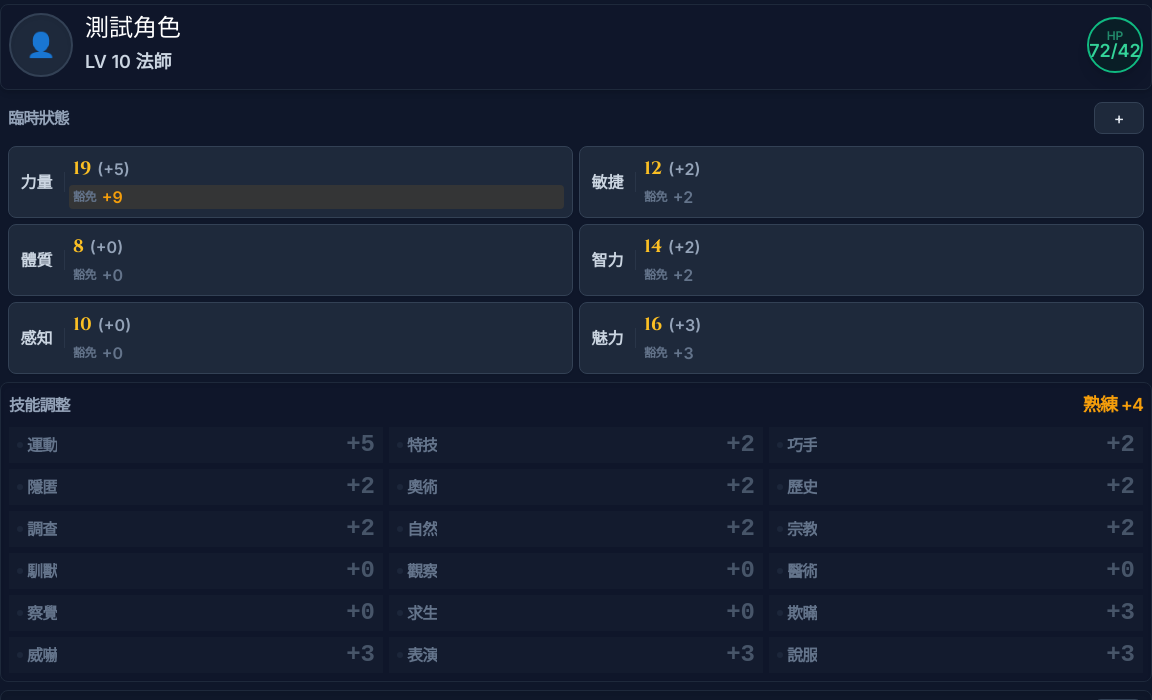
it: 屬性詳細彈窗 - 能力值與調整值不可混算 › 沒有任何加值來源的屬性不受影響
Click the text "智力". click: {"x": 608, "y": 260}
box: [592,250,624,270]
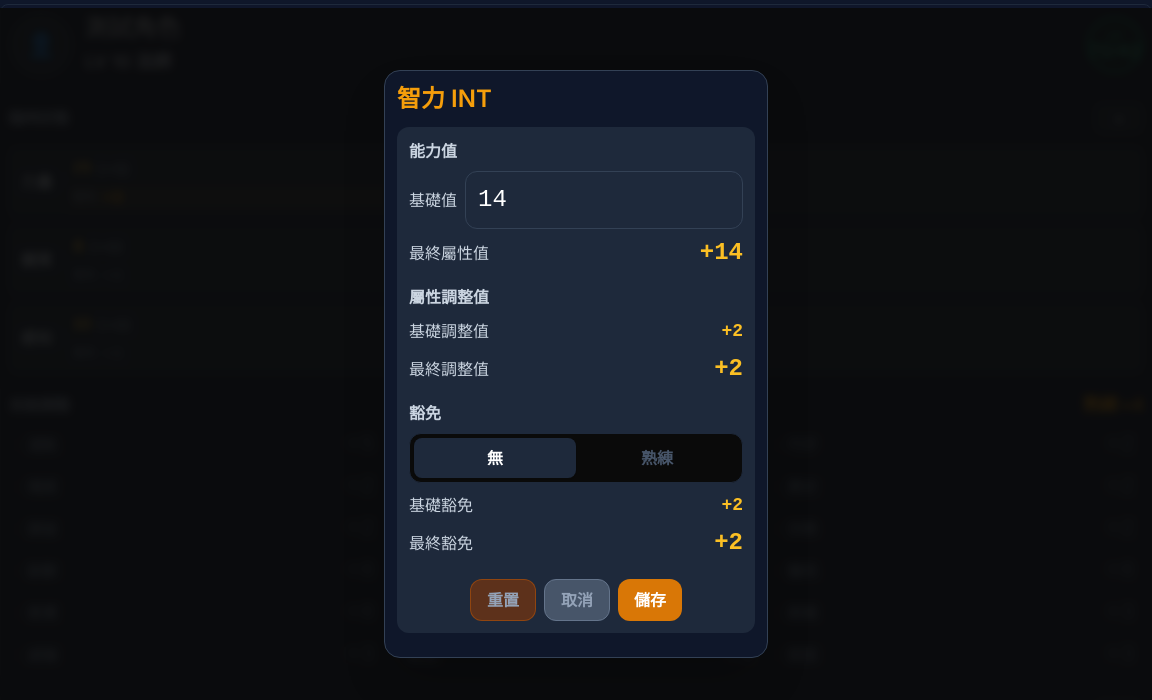
Now the text "最終屬性值" is shown, box [409,241,489,265]
Now the text "最終屬性值" shows "14", box [714,239,743,266]
